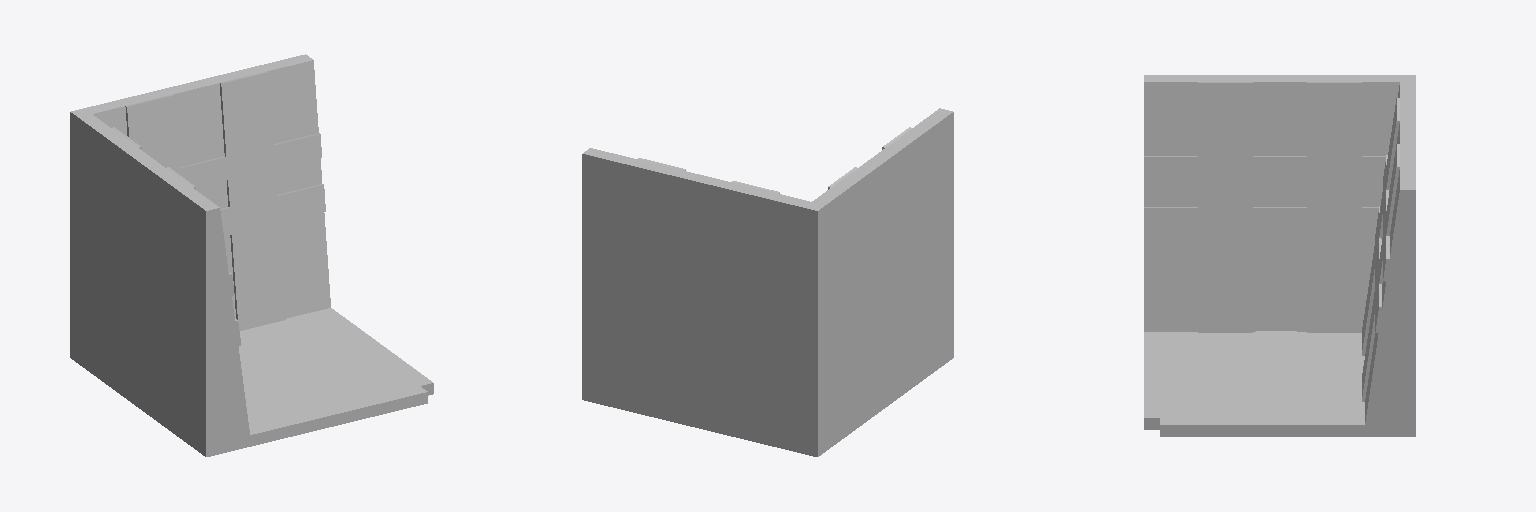
File: TrenchBend.obj
3 renders of one model, left to right at view 1: azimuth 30°, elevation 25°; view 2: azimuth 150°, elevation 25°; view 3: azimuth 270°, elevation 25°, orthographic.
Parts seen in each view (by area): view 1: Cube; view 2: Cube; view 3: Cube.
Part boxes in pixels (bbox=[...]): Cube: bbox=[70, 54, 433, 456]; Cube: bbox=[582, 108, 953, 456]; Cube: bbox=[1144, 75, 1415, 436].
Bounding box in the file's own units: 2 × 2.01 × 2.